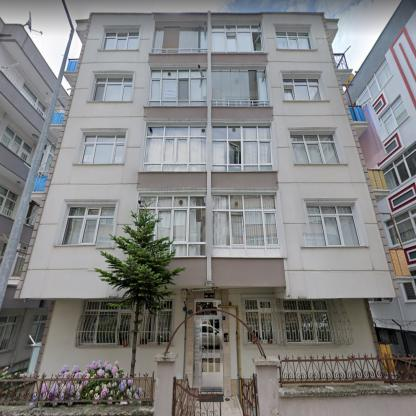door: (193, 310, 223, 390), (194, 299, 222, 311)
window: (212, 191, 285, 257), (139, 191, 206, 256), (211, 122, 275, 171), (142, 124, 206, 171), (301, 203, 362, 247), (56, 202, 117, 246), (78, 302, 135, 346), (147, 66, 207, 106), (212, 66, 270, 107), (281, 300, 336, 343), (354, 58, 394, 106), (290, 131, 344, 164), (75, 131, 126, 164), (151, 24, 207, 54), (211, 23, 265, 54), (382, 143, 415, 191), (140, 299, 172, 345), (244, 296, 276, 342), (378, 95, 408, 141), (1, 123, 34, 163), (384, 206, 415, 248), (282, 74, 328, 102), (88, 74, 133, 102), (274, 24, 315, 50), (99, 27, 140, 50), (21, 82, 45, 116), (1, 316, 20, 352), (1, 185, 18, 217), (400, 268, 416, 302), (31, 314, 47, 344), (245, 328, 255, 344)
